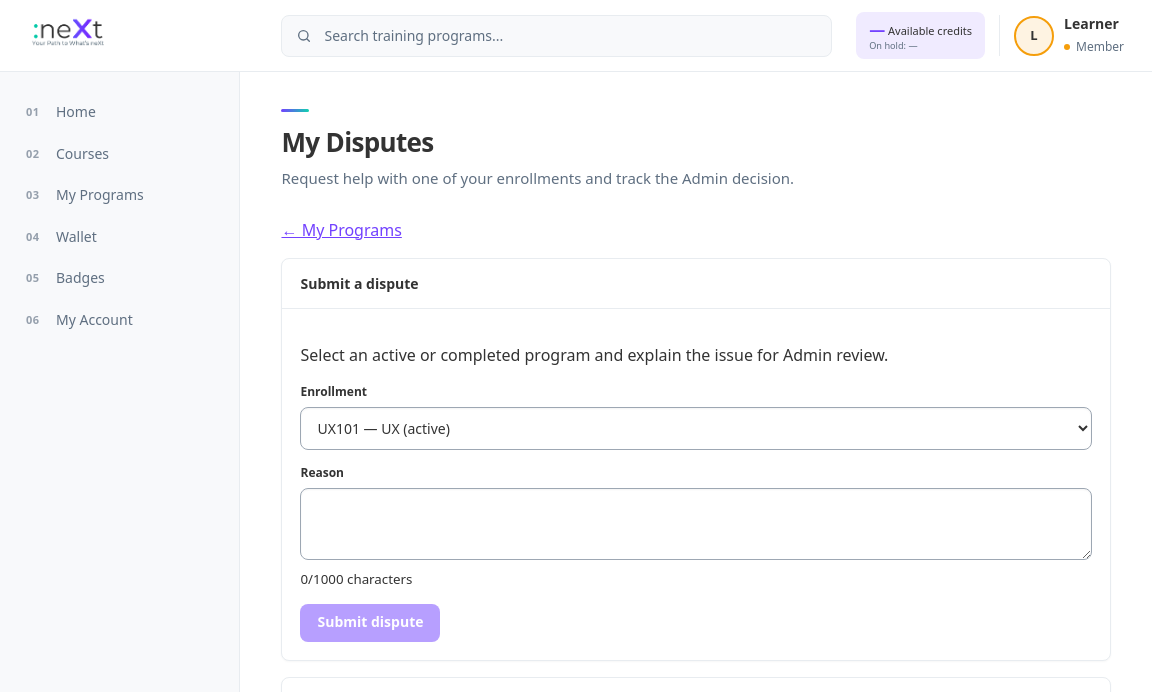
Scenario: submits a reason for the selected enrollment and displays the resulting status
Type "Session cancelled" into the text box labelled "Reason". click: (696, 524)
box: [300,488,1092,560]
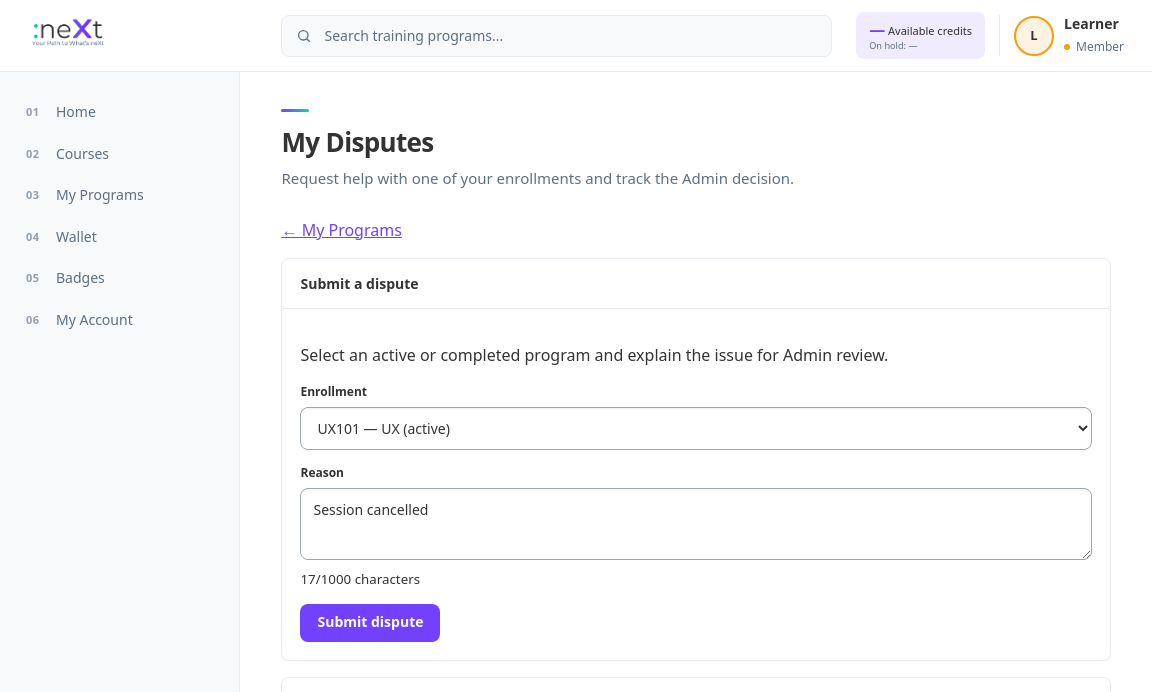
Click the button "Submit dispute". click: (370, 623)
box: [300,604,440,642]
(page scrolled)
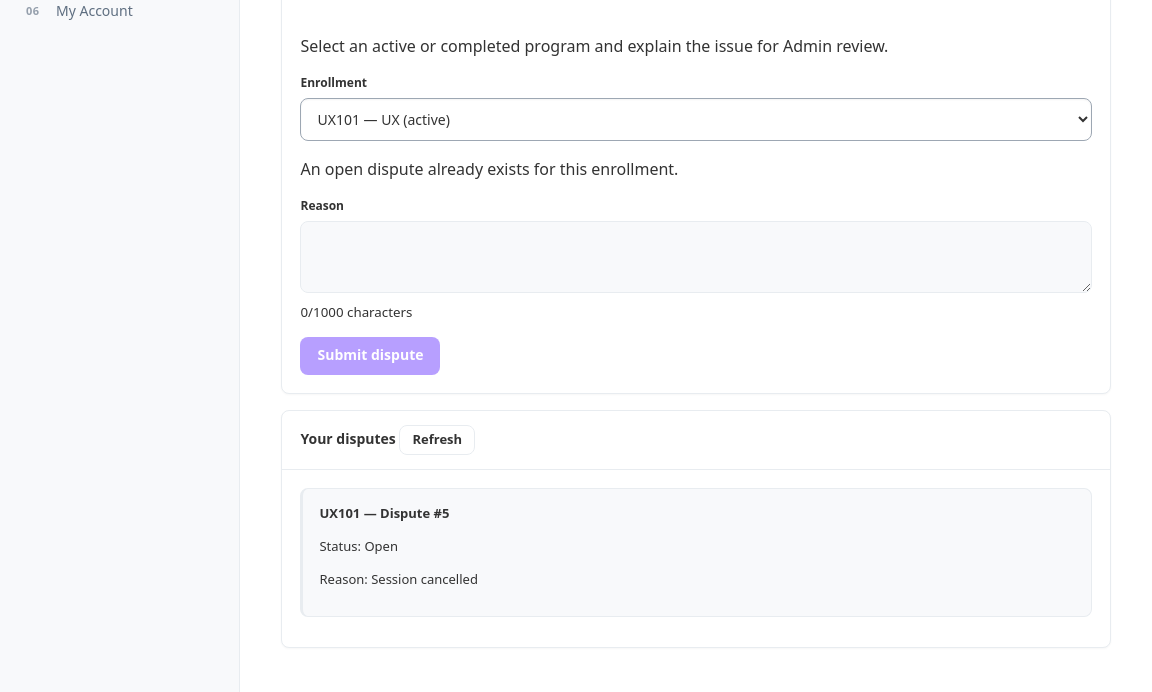
expect the text "Open" is shown: met, box [364,537,398,555]
